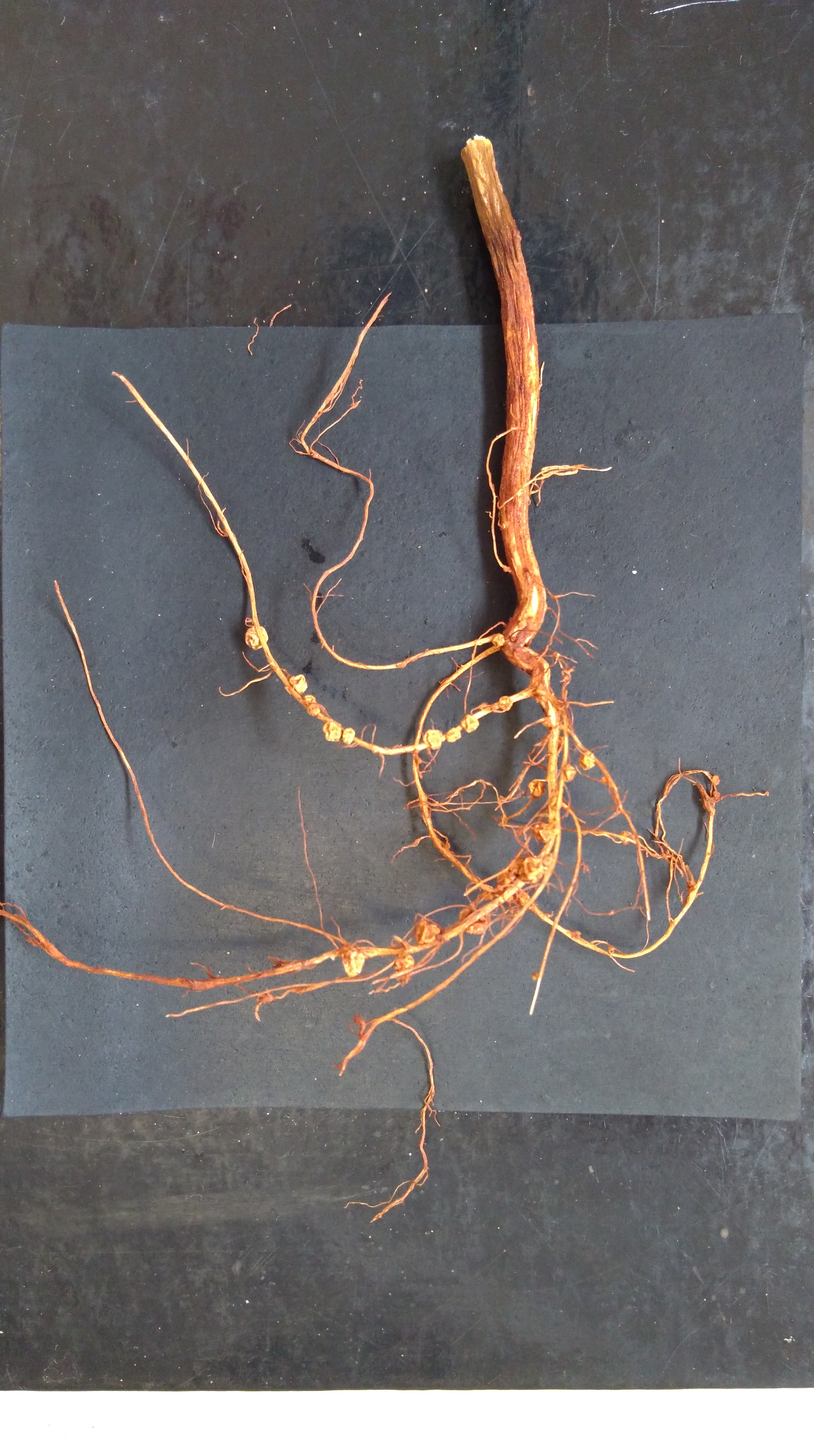nodule: (454, 906, 489, 940), (513, 854, 547, 884), (412, 916, 444, 945), (339, 950, 367, 980), (243, 623, 270, 652), (421, 727, 444, 754), (392, 952, 417, 976), (319, 720, 342, 746), (288, 671, 310, 696), (495, 869, 517, 893), (459, 712, 481, 735), (532, 822, 555, 844), (340, 724, 359, 747), (578, 750, 597, 772), (508, 857, 528, 877), (527, 778, 546, 798), (445, 724, 463, 745), (498, 694, 515, 715), (563, 762, 578, 785), (618, 830, 635, 848), (305, 703, 325, 717), (492, 632, 507, 649), (303, 694, 319, 706), (710, 790, 723, 801), (711, 774, 721, 786), (530, 972, 539, 980)
